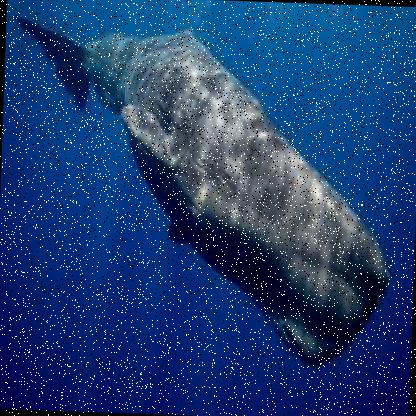sperm_whale: (11, 5, 401, 382)
